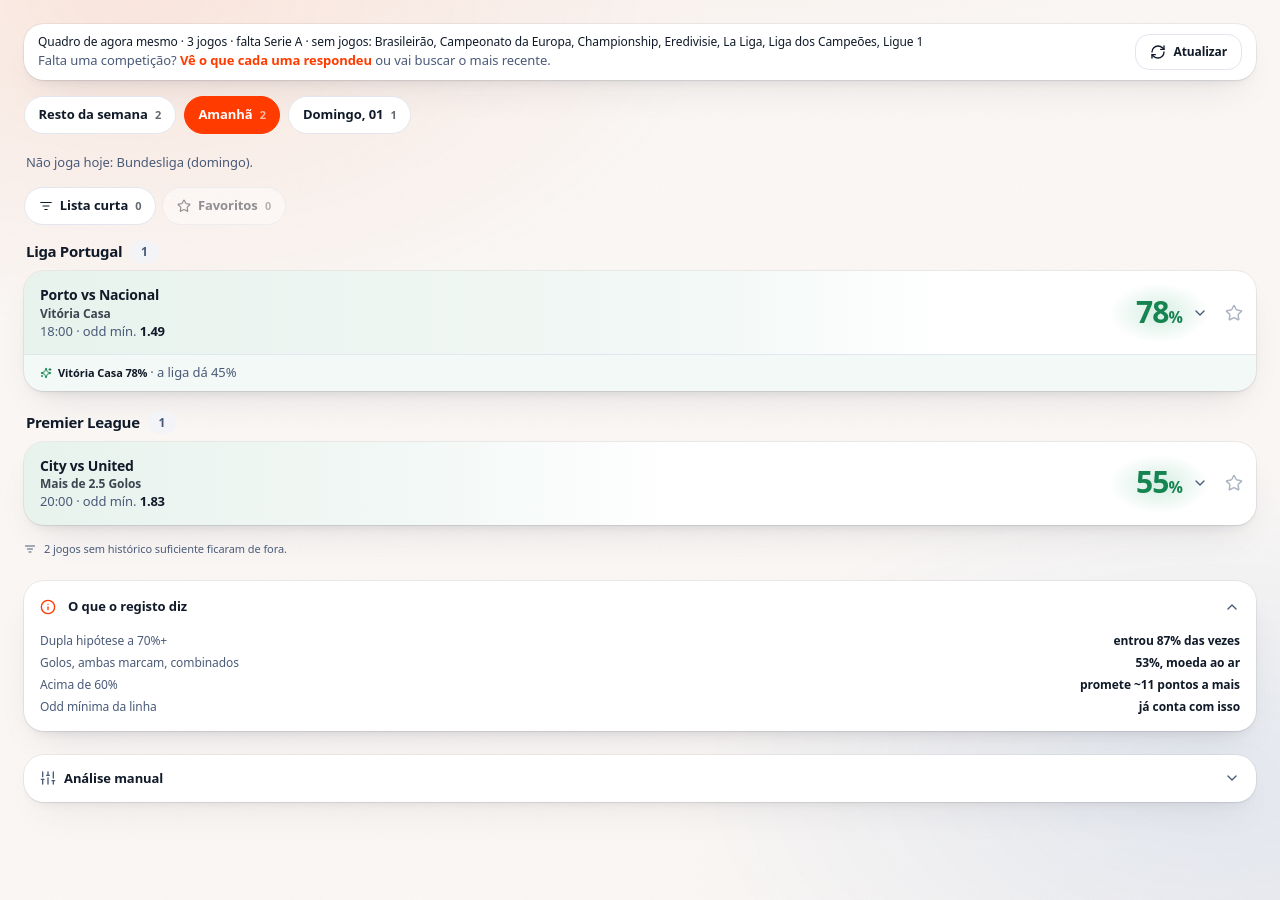
Test: ProbabilityRadar board › puts the days behind in the same row as the days ahead, with what they got right
Check: the text "Porto vs Nacional" is shown, box [40,285,159,304]
Click the button "Resto da semana 2": (100, 115) [24,96,176,134]
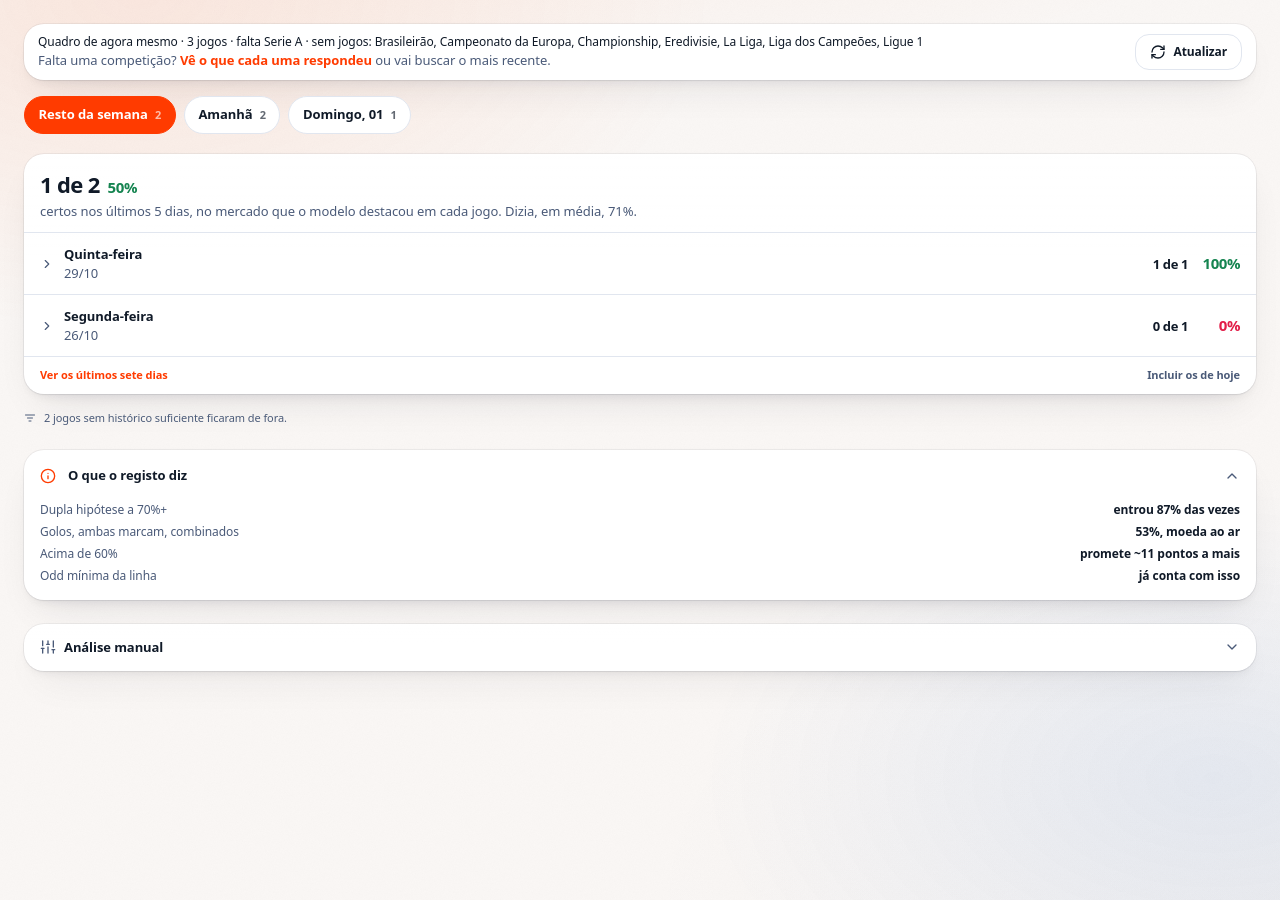
Check: the text "1 de 2" is shown, box [40,168,100,200]
Check: the button "quinta-feira 29/10 1 de 1 100%" is shown
Check: the button "segunda-feira 26/10 0 de 1 0%" is shown, box [24,295,1256,356]
E os jogos por baixo do dia a que pertencem.
Click the button "quinta-feira 29/10 1 de 1 100%": (108, 254) [24,233,1256,294]
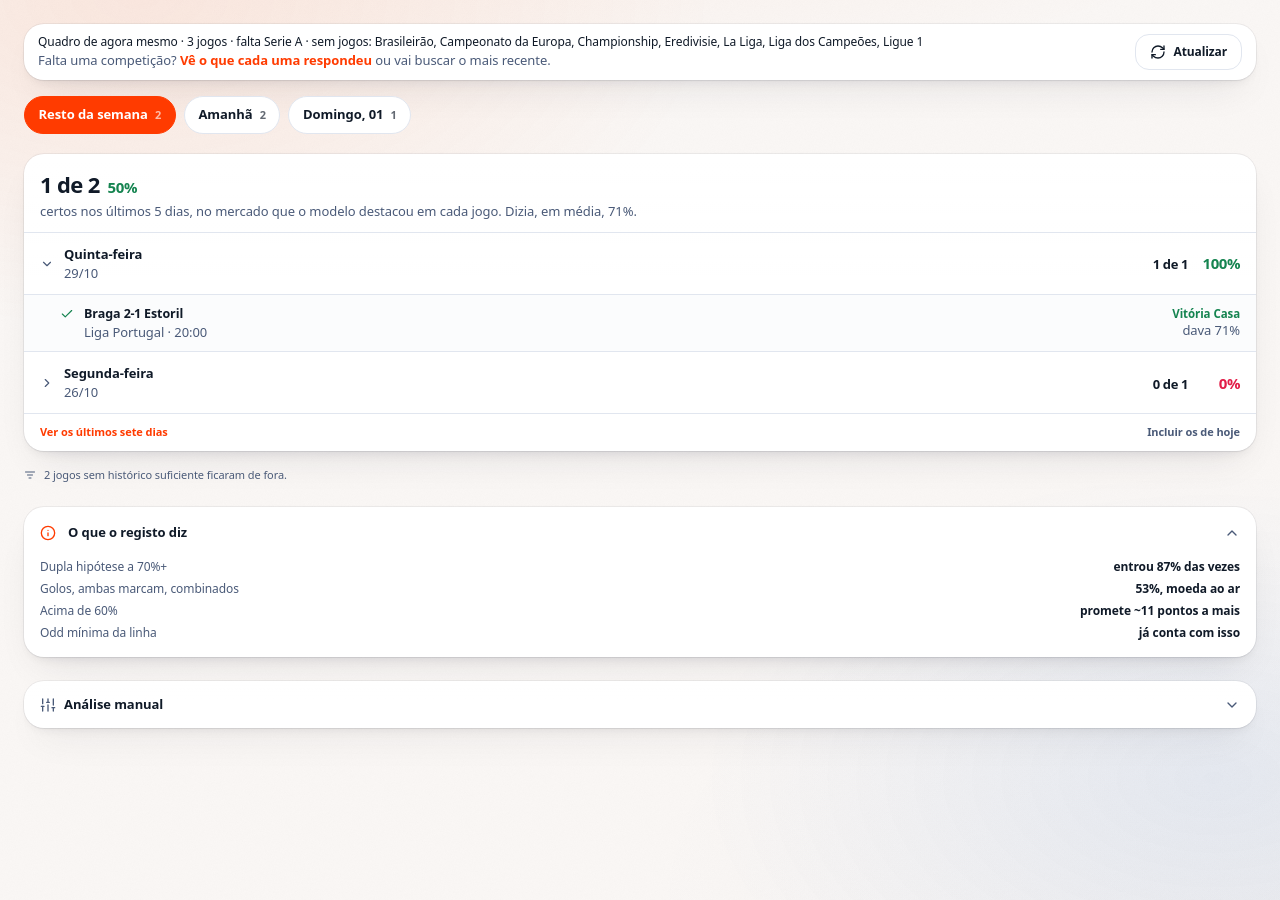
Check: the button "Porto vs Nacional" is not shown
Check: the text "Braga 2-1 Estoril" is shown, box [84,305,183,322]
